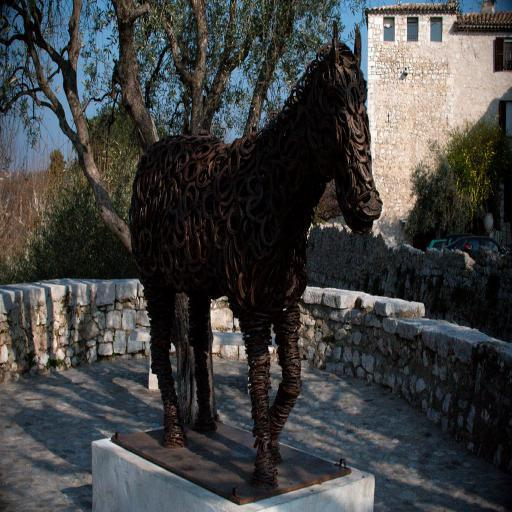horse: (130, 16, 384, 494)
